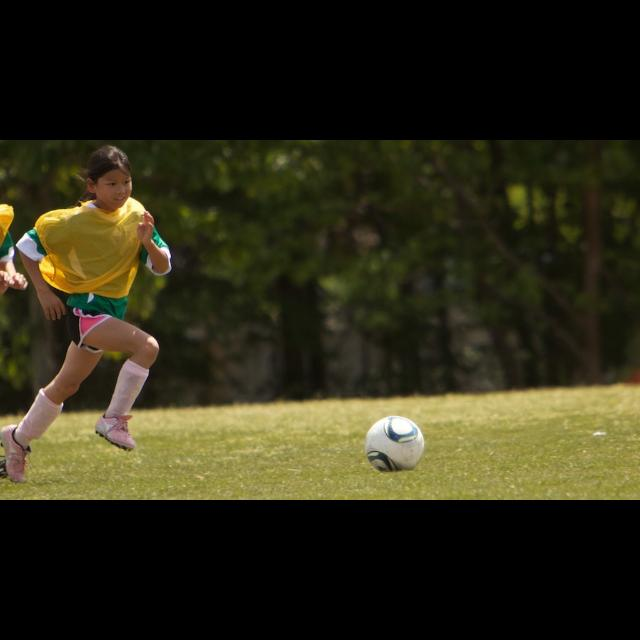Football: (362, 413, 423, 471)
